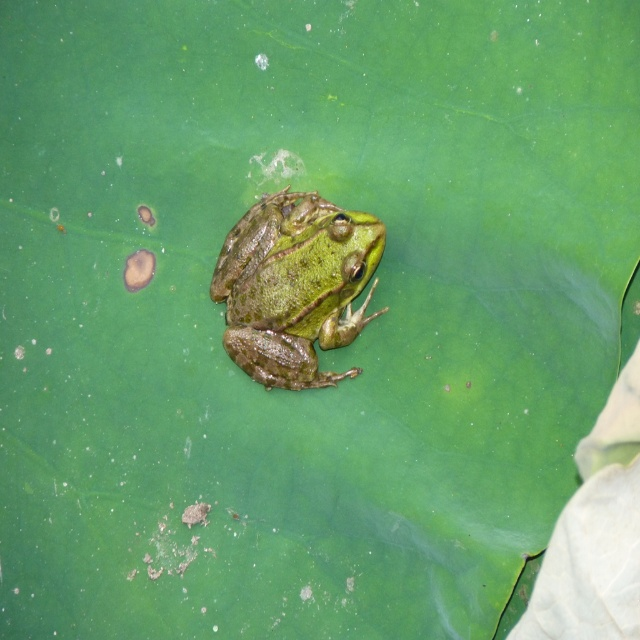Frog: (207, 183, 388, 391)
